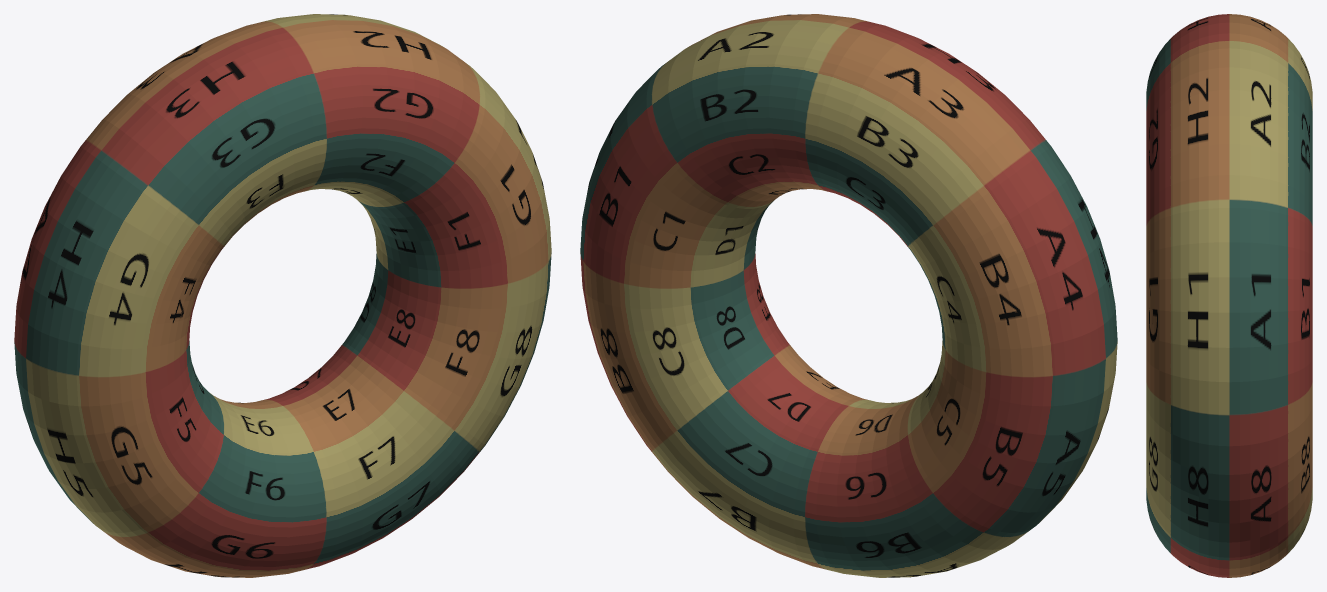
File: texture_torus_R17_r26.glb
3 views of the same model, side by side, from view 1: azimuth 30°, elevation 25°; view 2: azimuth 150°, elevation 25°; view 3: azimuth 270°, elevation 25° (orthographic). The views are drawn at different scales.
Visible parts, largest first — view 1: world; view 2: world; view 3: world.
Boxes of the visible parts, x1,y1,x2,y2 form: world: [14, 14, 551, 577]; world: [580, 14, 1117, 577]; world: [1146, 14, 1312, 577].
Bounding box in the file's own units: 30.27 × 30.21 × 8.92.
Materials: 1 (1 with a texture image).
